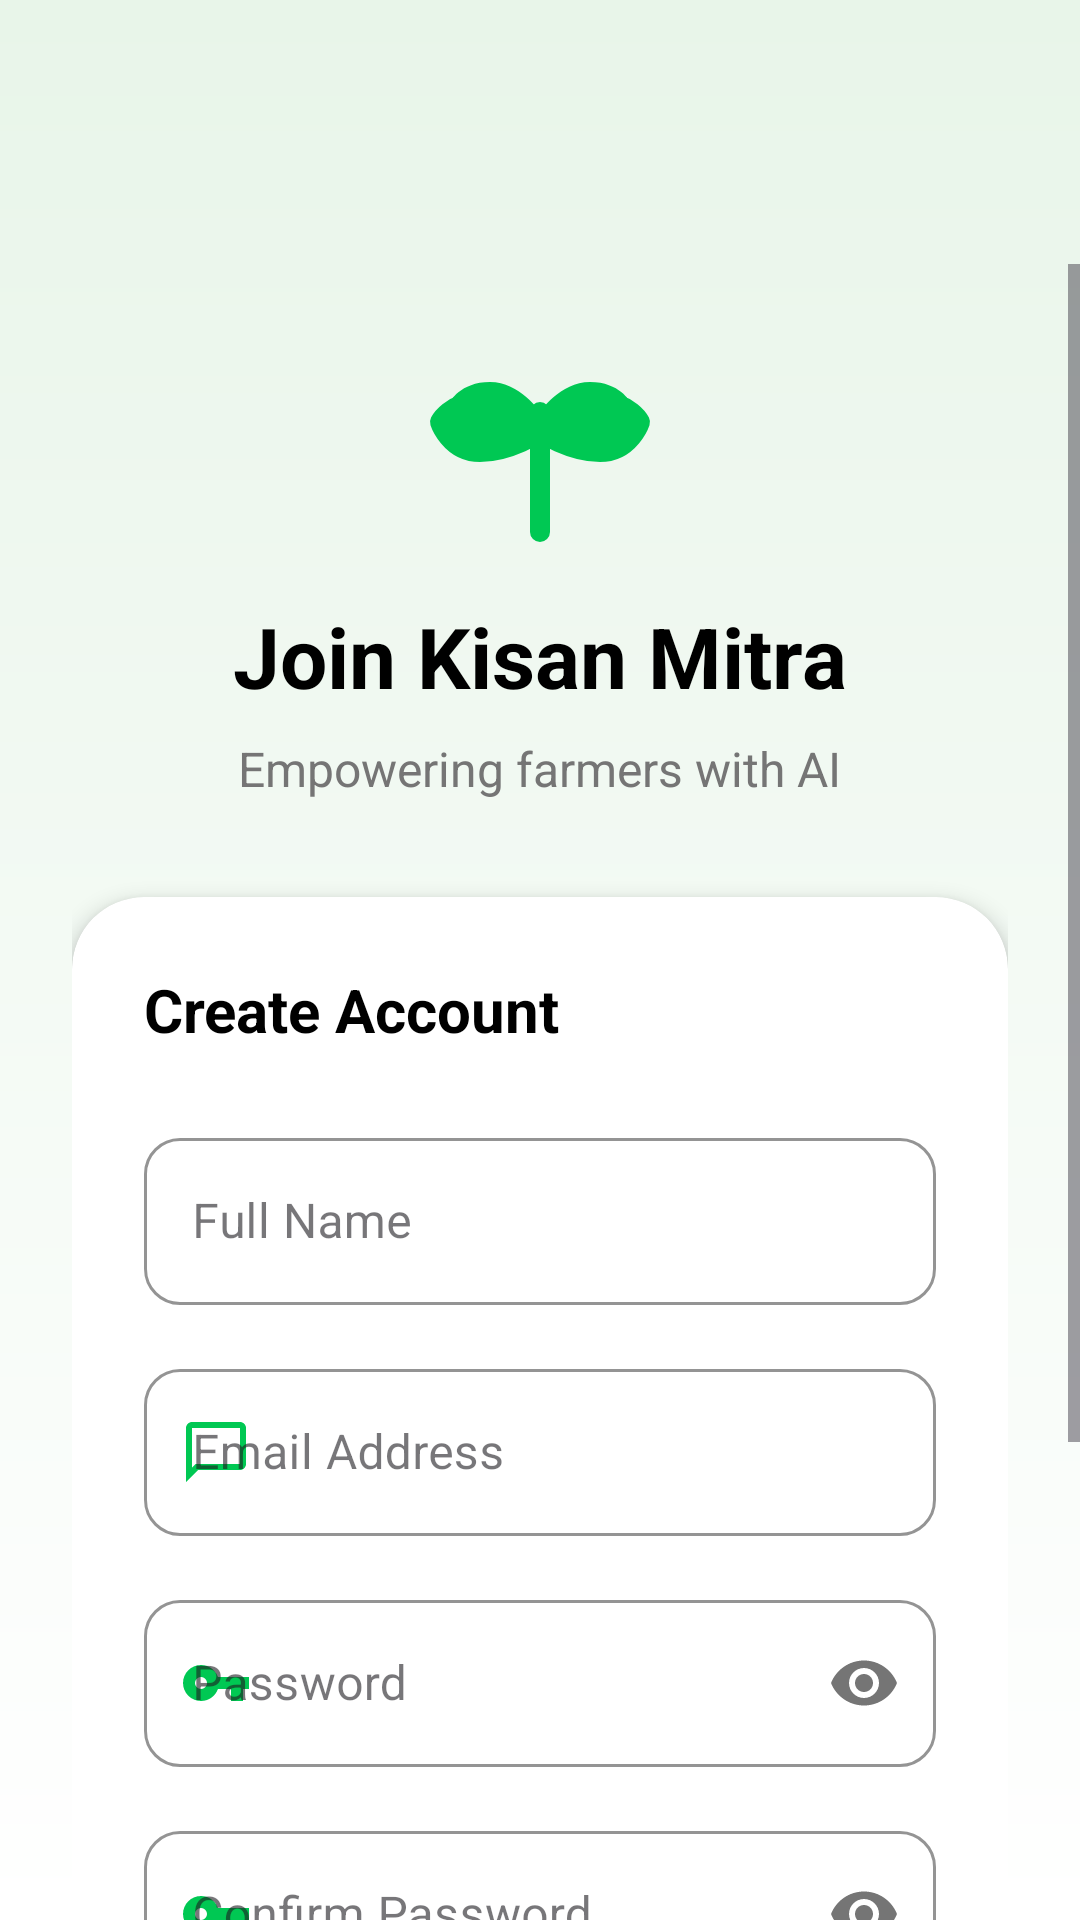

Screen size 1080×1920. Icon name, then its center in pixels as (x=x, y=y):
seedling: (x=540, y=462)
